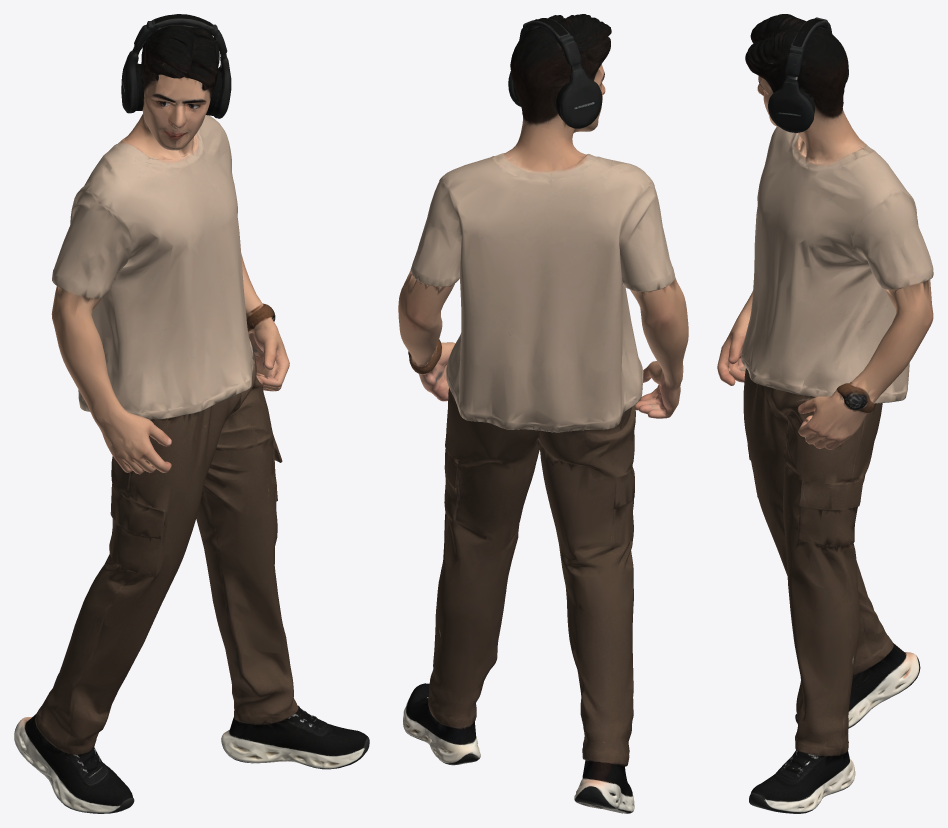
Rendered from look.glb.
The picture shows the model from 3 angles, left to right: view 1: azimuth 30°, elevation 25°; view 2: azimuth 150°, elevation 25°; view 3: azimuth 270°, elevation 25°; orthographic projection. The views are drawn at different scales.
Parts seen in each view (by area): view 1: Object_01; view 2: Object_01; view 3: Object_01.
Part boxes in pixels (x1=…): Object_01: x1=14, y1=14, x2=369, y2=813; Object_01: x1=398, y1=14, x2=688, y2=813; Object_01: x1=717, y1=14, x2=933, y2=813.
Bounding box in the file's own units: 0.6996 × 1.78 × 0.4754.
Materials: 1 (1 with a texture image).
